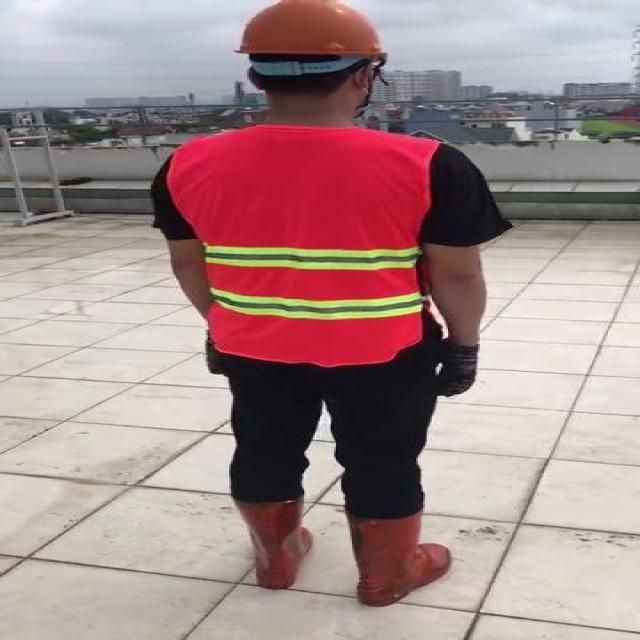boots: (347, 509, 453, 606), (233, 497, 311, 590)
hand_glove: (434, 341, 482, 398)
head_helmet: (229, 0, 393, 60)
person: (152, 0, 511, 607)
vest: (171, 127, 430, 367)
